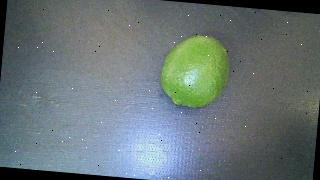EXPORTACION: (158, 32, 232, 110)
